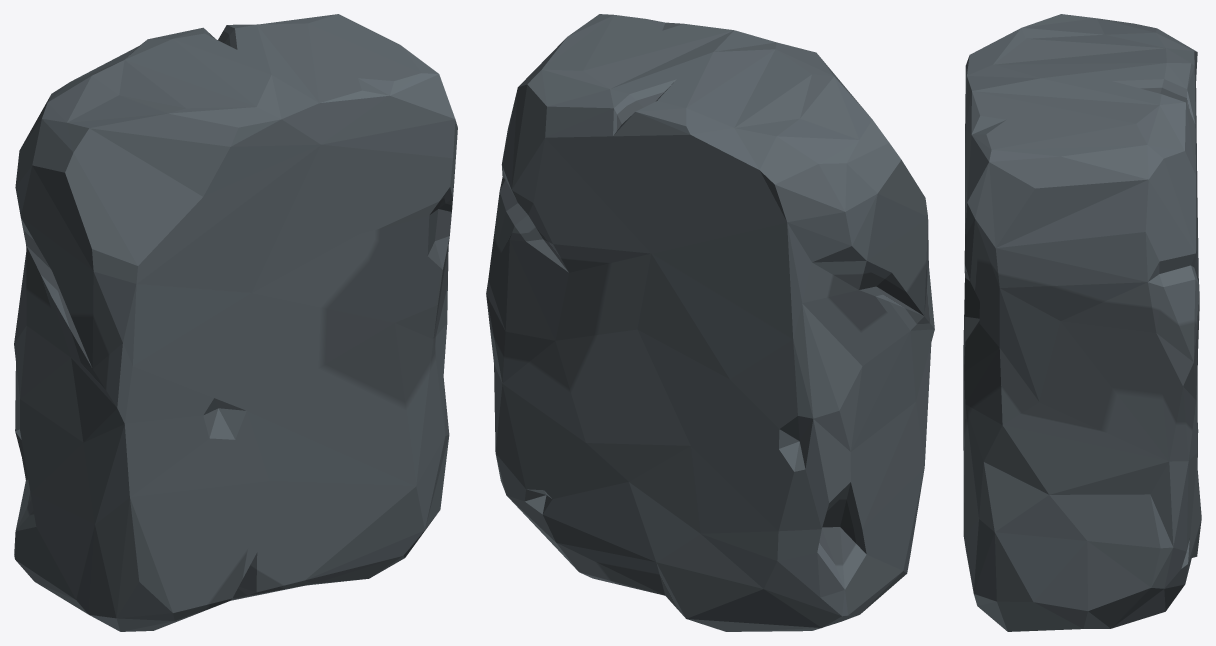
The model's file is SM_Env_Stone_04.fbx.
The picture shows the model from 3 angles, left to right: view 1: azimuth 30°, elevation 25°; view 2: azimuth 150°, elevation 25°; view 3: azimuth 270°, elevation 25°; orthographic projection.
Parts seen in each view (by area): view 1: SM_Env_Stone_04; view 2: SM_Env_Stone_04; view 3: SM_Env_Stone_04.
Part boxes in pixels (bbox=[...]): SM_Env_Stone_04: bbox=[14, 14, 457, 631]; SM_Env_Stone_04: bbox=[486, 14, 934, 631]; SM_Env_Stone_04: bbox=[963, 14, 1201, 631].
Bounding box in the file's own units: 226 × 310 × 128.
